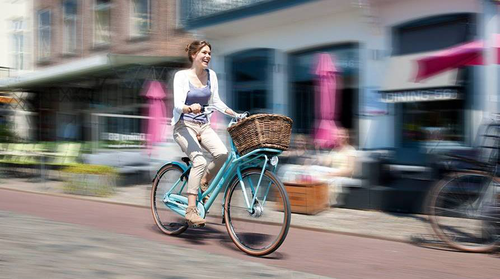bikerider: (140, 35, 297, 262)
